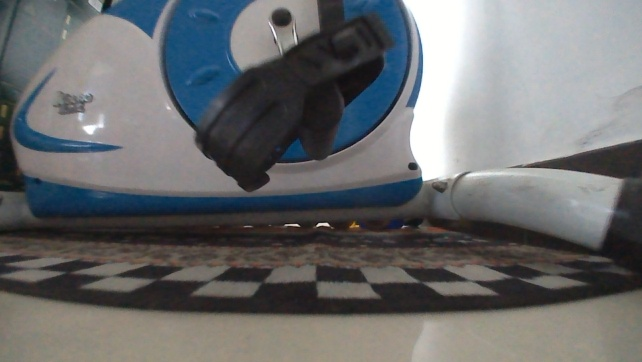blanket: (0, 219, 641, 319)
